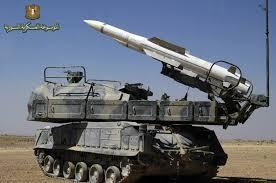rszo: (15, 10, 266, 183)
